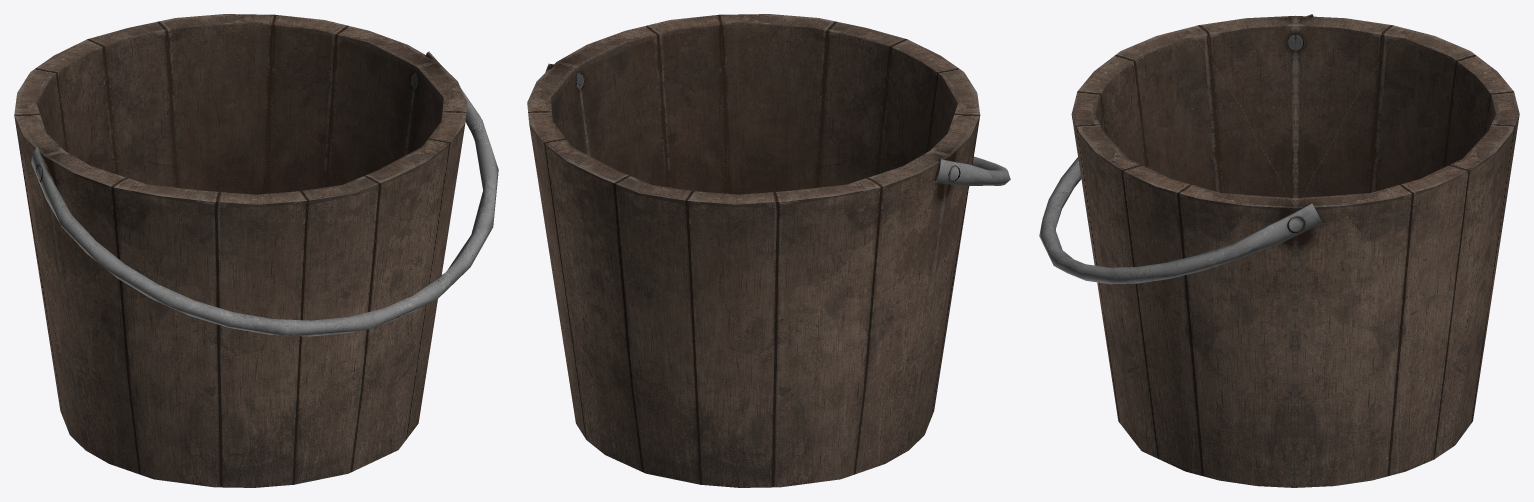
Rendered from SM_bucket_01.fbx.
The picture shows the model from 3 angles, left to right: view 1: azimuth 30°, elevation 25°; view 2: azimuth 150°, elevation 25°; view 3: azimuth 270°, elevation 25°; orthographic projection.
Visible parts, largest first — view 1: SM_bucket_01_LOD0; view 2: SM_bucket_01_LOD0; view 3: SM_bucket_01_LOD0.
Part boxes in pixels (x1,y1,x2,y2): SM_bucket_01_LOD0: (14,14,498,487); SM_bucket_01_LOD0: (527,14,1010,487); SM_bucket_01_LOD0: (1039,14,1519,487).
Bounding box in the file's own units: 46.49 × 46.27 × 32.3.
1 material, 1 textured.
